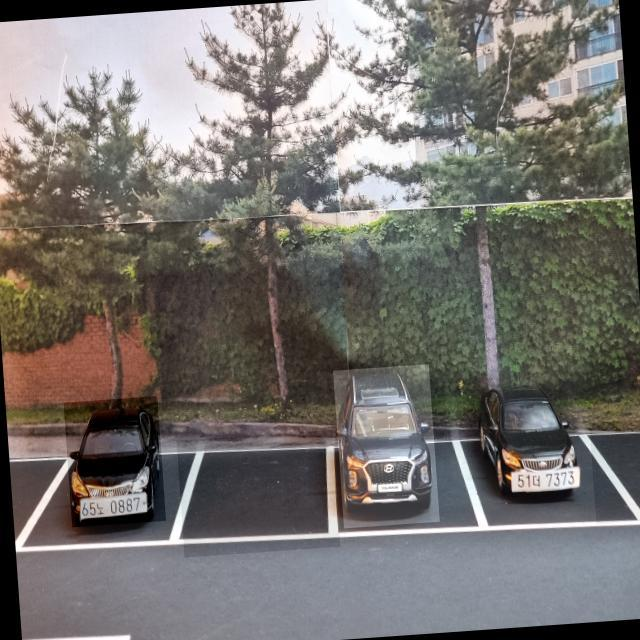empty: (176, 430, 340, 558), (589, 418, 640, 523)
occupied: (332, 363, 440, 528), (63, 396, 166, 526)
